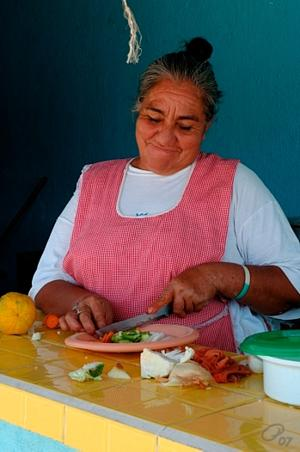person: (27, 33, 300, 356)
